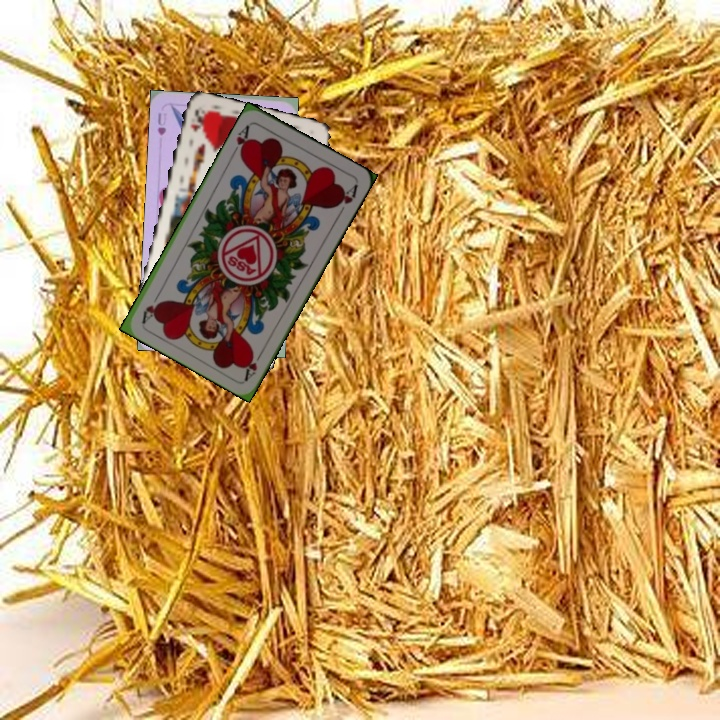HA: (241, 345, 267, 382), (228, 121, 253, 159)
HK: (187, 106, 207, 135)
HU: (153, 109, 169, 138)
